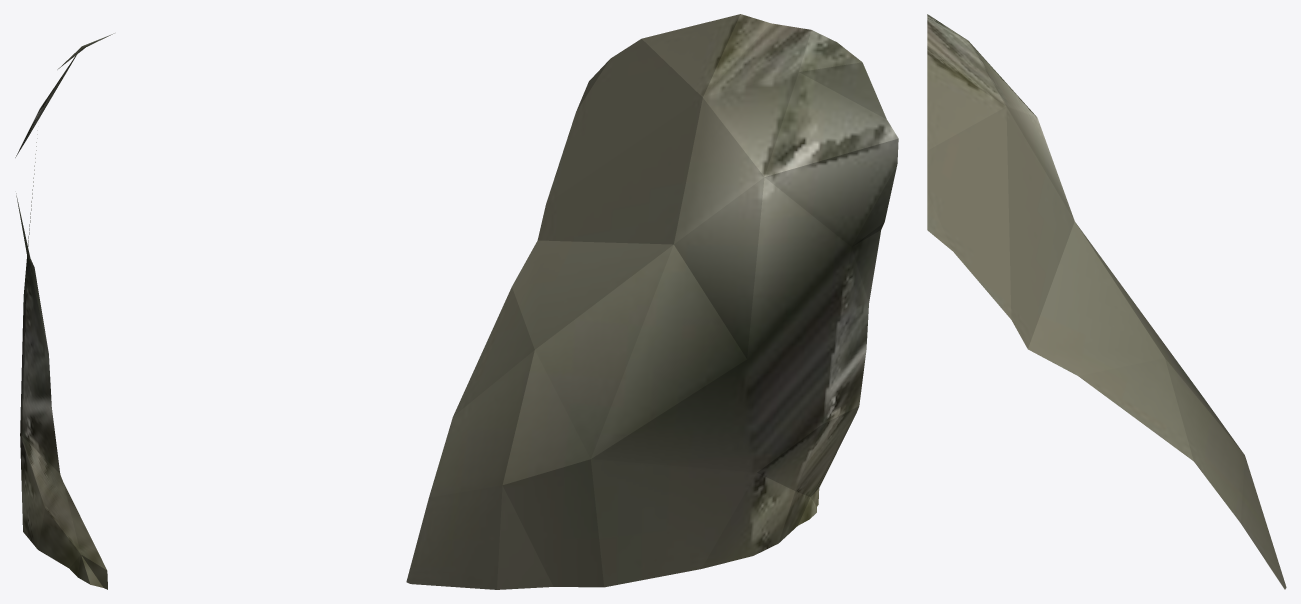
3 views of the same model, side by side, from view 1: azimuth 30°, elevation 25°; view 2: azimuth 150°, elevation 25°; view 3: azimuth 270°, elevation 25° (orthographic). The views are drawn at different scales.
Bounding box in the file's own units: 2.34 × 3.42 × 2.4.
Materials: 1 (1 with a texture image).
